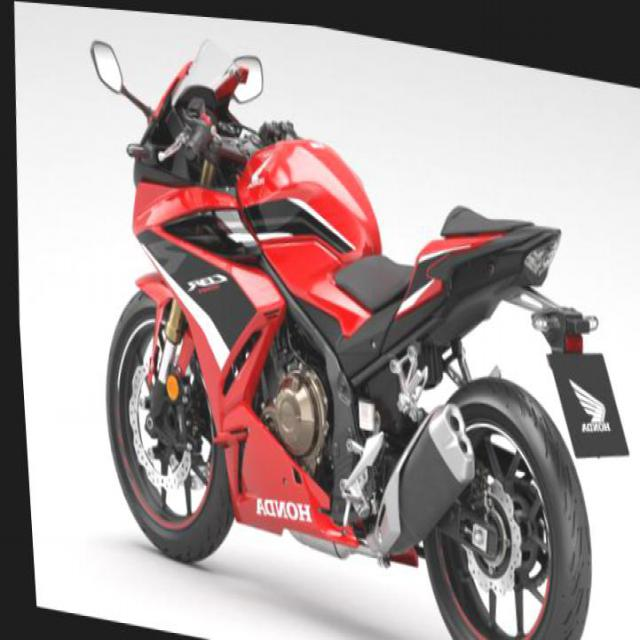CBR500R: (60, 9, 639, 638)
